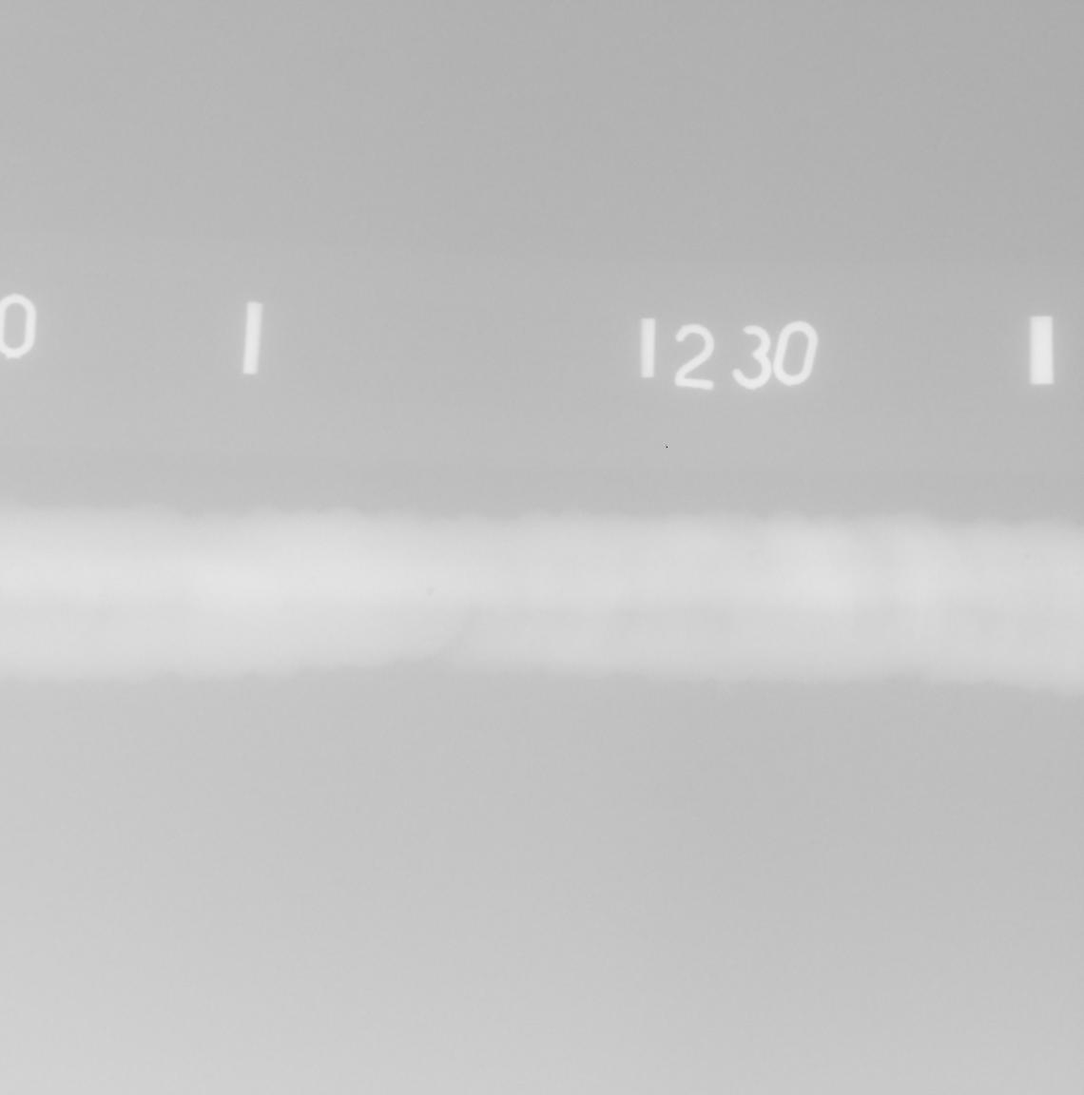Pore/Porosity: (426, 587, 436, 596), (748, 552, 755, 558), (751, 607, 758, 613), (775, 597, 783, 602), (1075, 571, 1081, 575), (1024, 554, 1030, 558)
